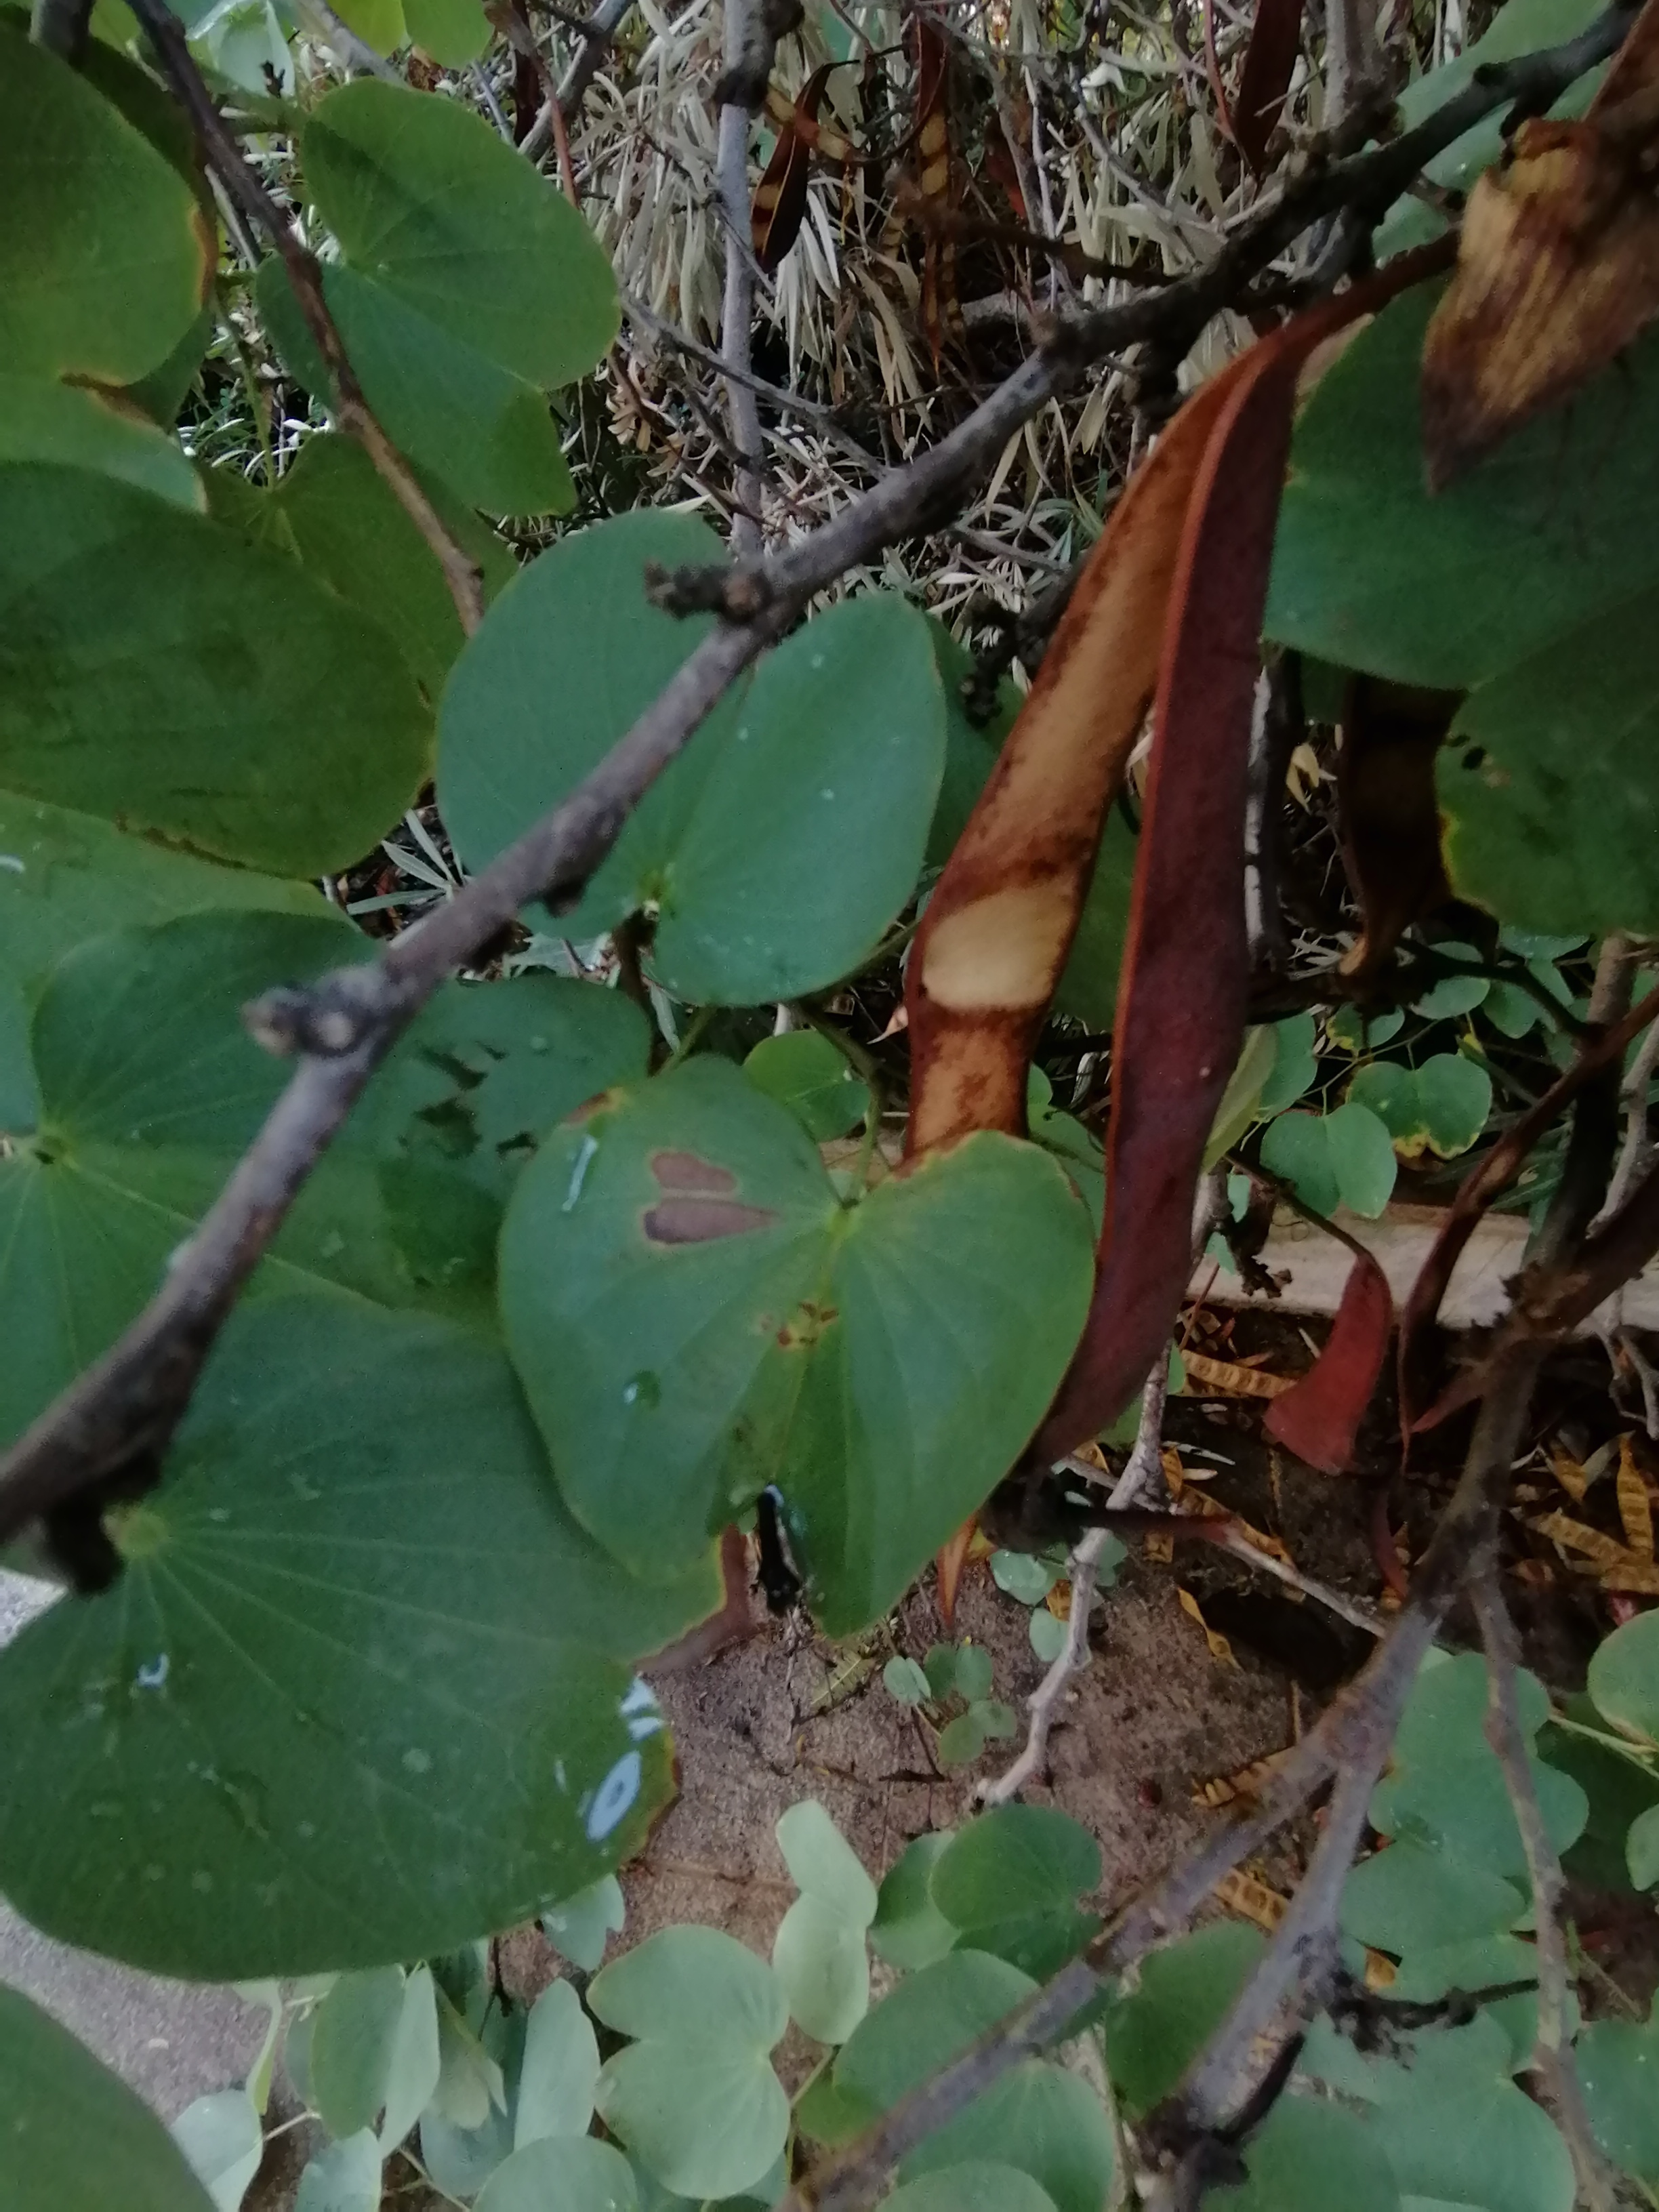healthy: (286, 110, 537, 467)
nothealthy: (526, 1099, 1094, 1609)
